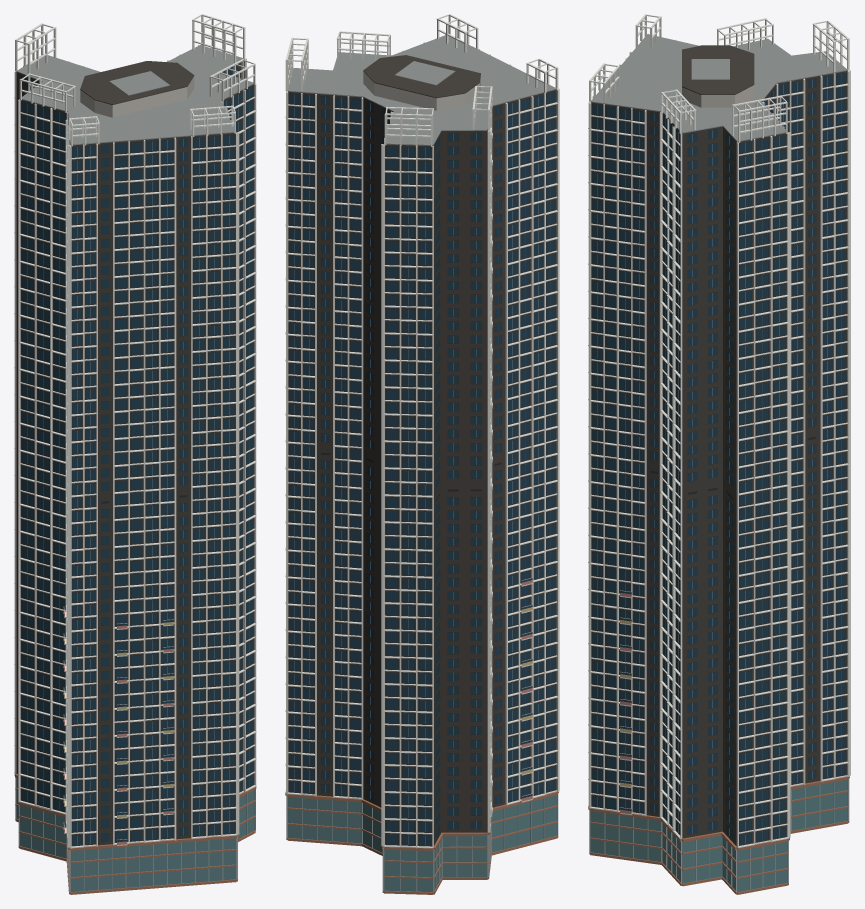
File: bespoke-gratte-ciel-102.glb
3 renders of one model, left to right at view 1: azimuth 30°, elevation 25°; view 2: azimuth 150°, elevation 25°; view 3: azimuth 270°, elevation 25°, orthographic.
Parts seen in each view (by area): view 1: 102_recessed_windows_and_mullions004, 102_individual_stepped_plan, 102_projecting_woven_white_frames, 102_recessed_windows_and_mullions004_1, 102_open_lattice_crowns_and_roof_core004_2, 102_simplified_retail_and_lobby004_2, 102_recessed_windows_and_mullions004_2, 102_open_lattice_crowns_and_roof_core004_1, 102_simplified_retail_and_lobby004_1, 102_open_lattice_crowns_and_roof_core004, 102_open_lattice_crowns_and_roof_core004_3, 102_simplified_retail_and_lobby004 (+1 smaller); view 2: 102_individual_stepped_plan, 102_recessed_windows_and_mullions004, 102_projecting_woven_white_frames, 102_recessed_windows_and_mullions004_1, 102_open_lattice_crowns_and_roof_core004_2, 102_simplified_retail_and_lobby004_2, 102_recessed_windows_and_mullions004_2, 102_open_lattice_crowns_and_roof_core004_1, 102_simplified_retail_and_lobby004_1, 102_open_lattice_crowns_and_roof_core004, 102_simplified_retail_and_lobby004, 102_open_lattice_crowns_and_roof_core004_3; view 3: 102_recessed_windows_and_mullions004, 102_individual_stepped_plan, 102_projecting_woven_white_frames, 102_recessed_windows_and_mullions004_1, 102_open_lattice_crowns_and_roof_core004_2, 102_simplified_retail_and_lobby004_2, 102_recessed_windows_and_mullions004_2, 102_open_lattice_crowns_and_roof_core004_1, 102_simplified_retail_and_lobby004_1, 102_open_lattice_crowns_and_roof_core004, 102_simplified_retail_and_lobby004, 102_open_lattice_crowns_and_roof_core004_3.
Boxes of the visible parts, x1,y1,x2,y2 form: 102_recessed_windows_and_mullions004: [22, 65, 252, 845]; 102_individual_stepped_plan: [16, 61, 254, 846]; 102_projecting_woven_white_frames: [14, 45, 256, 848]; 102_recessed_windows_and_mullions004_1: [22, 65, 253, 845]; 102_open_lattice_crowns_and_roof_core004_2: [16, 45, 253, 145]; 102_simplified_retail_and_lobby004_2: [16, 778, 254, 891]; 102_recessed_windows_and_mullions004_2: [27, 68, 249, 844]; 102_open_lattice_crowns_and_roof_core004_1: [15, 14, 255, 146]; 102_simplified_retail_and_lobby004_1: [14, 774, 256, 894]; 102_open_lattice_crowns_and_roof_core004: [80, 61, 194, 104]; 102_open_lattice_crowns_and_roof_core004_3: [80, 76, 194, 117]; 102_simplified_retail_and_lobby004: [15, 777, 255, 892]; 102_individual_stepped_plan: [288, 89, 556, 846]; 102_recessed_windows_and_mullions004: [290, 92, 555, 845]; 102_projecting_woven_white_frames: [285, 34, 559, 848]; 102_recessed_windows_and_mullions004_1: [289, 91, 555, 845]; 102_open_lattice_crowns_and_roof_core004_2: [287, 35, 556, 145]; 102_simplified_retail_and_lobby004_2: [288, 795, 556, 891]; 102_recessed_windows_and_mullions004_2: [294, 93, 550, 844]; 102_open_lattice_crowns_and_roof_core004_1: [285, 14, 558, 146]; 102_simplified_retail_and_lobby004_1: [285, 791, 558, 894]; 102_open_lattice_crowns_and_roof_core004: [363, 55, 480, 98]; 102_simplified_retail_and_lobby004: [286, 794, 558, 892]; 102_open_lattice_crowns_and_roof_core004_3: [363, 71, 480, 110]; 102_recessed_windows_and_mullions004: [592, 73, 845, 844]; 102_individual_stepped_plan: [591, 71, 847, 845]; 102_projecting_woven_white_frames: [588, 33, 850, 848]; 102_recessed_windows_and_mullions004_1: [592, 73, 846, 845]; 102_open_lattice_crowns_and_roof_core004_2: [590, 34, 847, 141]; 102_simplified_retail_and_lobby004_2: [590, 779, 847, 891]; 102_recessed_windows_and_mullions004_2: [597, 74, 841, 843]; 102_open_lattice_crowns_and_roof_core004_1: [589, 14, 849, 142]; 102_simplified_retail_and_lobby004_1: [588, 776, 849, 894]; 102_open_lattice_crowns_and_roof_core004: [682, 45, 754, 94]; 102_simplified_retail_and_lobby004: [589, 778, 849, 892]; 102_open_lattice_crowns_and_roof_core004_3: [682, 85, 754, 107].
Size of the model in its own units: 53.95 by 180 by 54.53.
